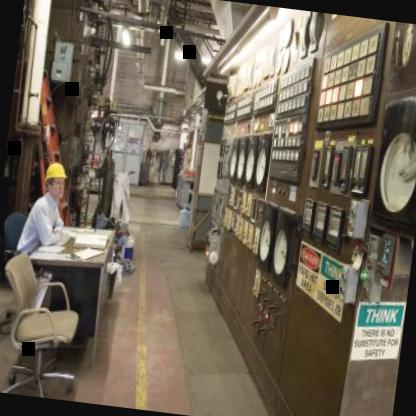helmet: (40, 156, 70, 204)
